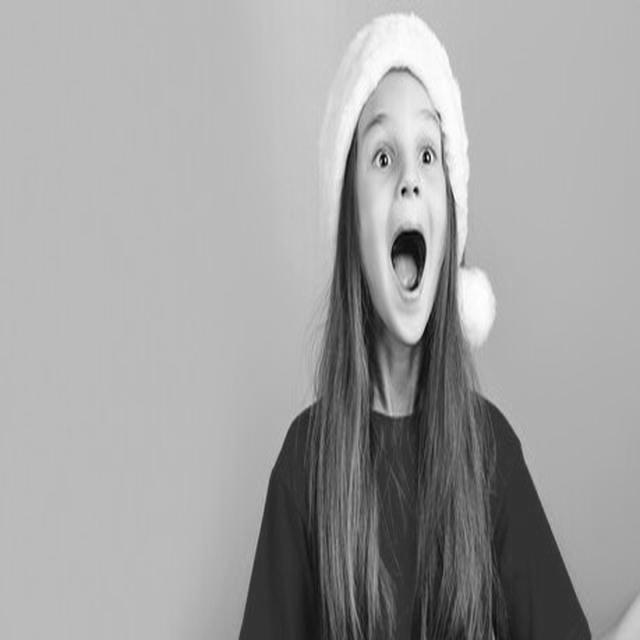Surprised: (356, 70, 448, 346)
